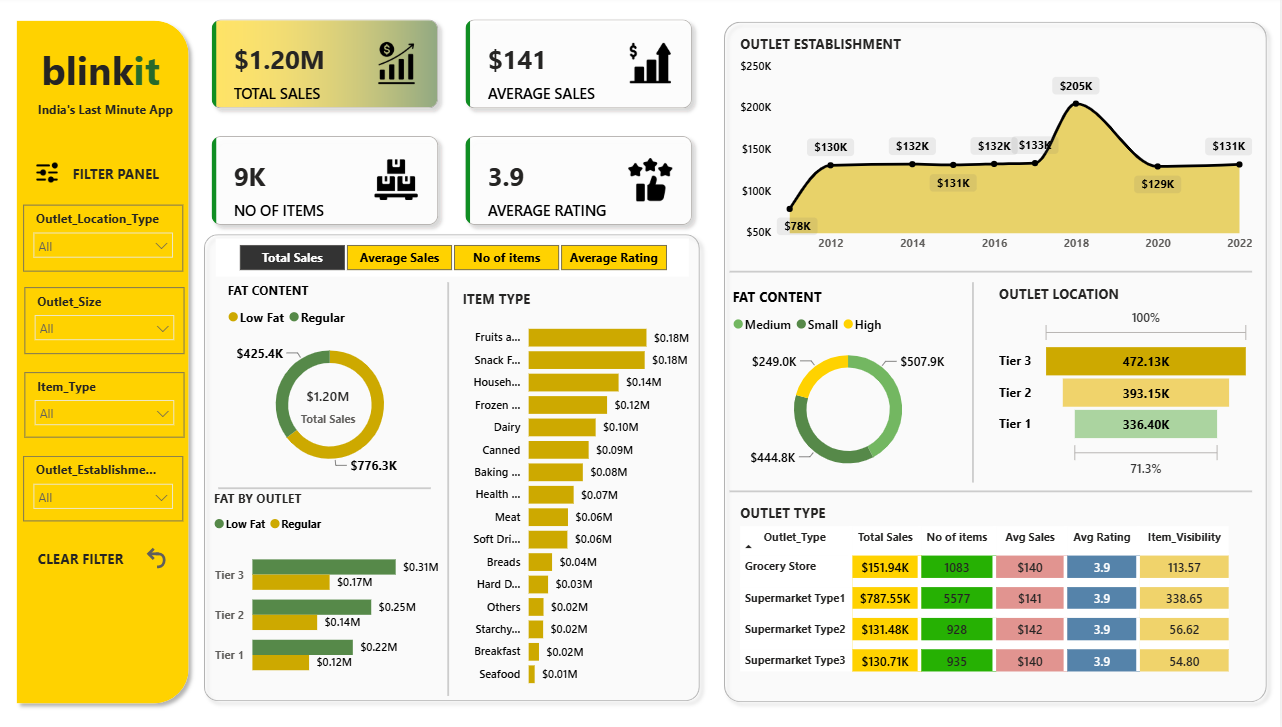

What the dashboard file says about the page in this screenshot:
{"tool":"powerbi","page":{"name":"Page 1","canvas":[1400,800],"ordinal":0},"visuals":[{"type":"shape","box":[12.9,17.1,205.7,762.9],"z":0},{"type":"textbox","box":[32,46.9,163.5,67],"z":1000},{"type":"textbox","box":[21.3,108.6,193,32.2],"z":2000},{"type":"cardVisual","fields":{"Data":["New Measures.Total Sales","New Measures.Average Sales","New Measures.No of items","New Measures.Average Rating"]},"box":[218.3,9.4,558.8,257.3],"z":3000},{"type":"shape","box":[217.1,251.4,558.6,527.1],"z":4000},{"type":"slicer","fields":{"Values":["Metrics.Metrics"]},"box":[238.6,264.3,515.7,41.4],"z":5000},{"type":"donutChart","title":"FAT CONTENT","fields":{"Y":["New Measures.Total Sales"],"Category":["Grocery_Table.Item_Fat_Content"]},"box":[246.2,312.9,232.9,220],"z":6000,"group":"g1"},{"type":"clusteredBarChart","title":"FAT BY OUTLET","fields":{"Y":["New Measures.Total Sales"],"Series":["Grocery_Table.Item_Fat_Content"],"Category":["Grocery_Table.Outlet_Location_Type"]},"box":[231.4,538.6,255.7,221.4],"z":6000},{"type":"card","fields":{"Values":["New Measures.Total Sales"]},"box":[319.1,421.5,84.3,51.4],"z":7000,"group":"g1"},{"type":"shape","box":[240.7,521.3,231.8,32.2],"z":7000},{"type":"shape","box":[478.6,312.9,27.1,451.4],"z":8000},{"type":"clusteredBarChart","title":"ITEM TYPE","fields":{"Y":["New Measures.Total Sales"],"Category":["Grocery_Table.Item_Type"]},"box":[502.9,320,257.1,444.3],"z":9000},{"type":"shape","box":[783.3,18.6,610,760],"z":10000},{"type":"lineChart","title":"OUTLET ESTABLISHMENT","fields":{"Category":["Grocery_Table.Outlet_Establishment_Year"],"Y":["New Measures.Total Sales"]},"box":[805.3,42,568.6,245.7],"z":11000},{"type":"donutChart","title":"FAT CONTENT","fields":{"Y":["New Measures.Total Sales"],"Category":["Grocery_Table.Outlet_Size"]},"box":[797.6,317.7,261.8,216.8],"z":12000},{"type":"shape","box":[799.2,284.9,570,31.4],"z":13000},{"type":"shape","box":[1056.4,312,15.7,218.6],"z":14000},{"type":"funnel","title":"OUTLET LOCATION","fields":{"Category":["Grocery_Table.Outlet_Location_Type"],"Y":["Sum(Grocery_Table.Sales)"]},"box":[1088.2,314.9,284.3,215.7],"z":15000},{"type":"shape","box":[799.2,532,570,17.1],"z":16000},{"type":"pivotTable","title":"OUTLET TYPE","fields":{"Rows":["Grocery_Table.Outlet_Type"],"Values":["New Measures.Total Sales","New Measures.No of items","New Measures.Average Sales","New Measures.Average Rating","Sum(Grocery_Table.Item_Visibility)"]},"box":[805.2,553.2,566.2,210],"z":17000},{"type":"slicer","fields":{"Values":["Grocery_Table.Outlet_Location_Type"]},"box":[28.6,227.1,174.3,72.9],"z":18000},{"type":"slicer","fields":{"Values":["Grocery_Table.Outlet_Size"]},"box":[30,317.1,174.3,72.9],"z":19000},{"type":"slicer","fields":{"Values":["Grocery_Table.Item_Type"]},"box":[30,410,174.3,71.4],"z":20000},{"type":"image","box":[31.5,174.5,46.2,36.2],"z":21000},{"type":"textbox","box":[77.8,178.2,117.5,32.5],"z":22000},{"type":"textbox","box":[40.2,599.2,121.4,32.9],"z":23000},{"type":"actionButton","box":[158.6,597.1,31.4,31.4],"z":24000},{"type":"slicer","fields":{"Values":["Grocery_Table.Outlet_Establishment_Year"]},"box":[28.6,501.4,174.3,71.4],"z":25000},{"type":"group","id":"g1","title":"Group 1","box":[246.2,312.9,232.9,220],"z":26000}]}

Visuals, with their boxes in screenshot pixels (x1, y1, x2, y2), scaled from the page's 1400x800 canvas onto the 1282x727 screenshot:
shape: 12/16/200/709
textbox: 29/43/179/104
textbox: 20/99/196/128
cardVisual - New Measures.Total Sales x New Measures.Average Sales: 200/9/712/242
shape: 199/228/710/707
slicer - Metrics.Metrics: 218/240/691/278
"FAT CONTENT" donutChart: 225/284/439/484
"FAT BY OUTLET" clusteredBarChart: 212/489/446/691
card - New Measures.Total Sales: 292/383/369/430
shape: 220/474/433/503
shape: 438/284/463/695
"ITEM TYPE" clusteredBarChart: 461/291/696/695
shape: 717/17/1276/708
"OUTLET ESTABLISHMENT" lineChart: 737/38/1258/261
"FAT CONTENT" donutChart: 730/289/970/486
shape: 732/259/1254/287
shape: 967/284/982/482
"OUTLET LOCATION" funnel: 996/286/1257/482
shape: 732/483/1254/499
"OUTLET TYPE" pivotTable: 737/503/1256/694
slicer - Grocery_Table.Outlet_Location_Type: 26/206/186/273
slicer - Grocery_Table.Outlet_Size: 27/288/187/354
slicer - Grocery_Table.Item_Type: 27/373/187/437
image: 29/159/71/191
textbox: 71/162/179/191
textbox: 37/545/148/574
actionButton: 145/543/174/571
slicer - Grocery_Table.Outlet_Establishment_Year: 26/456/186/521
"Group 1" group: 225/284/439/484
